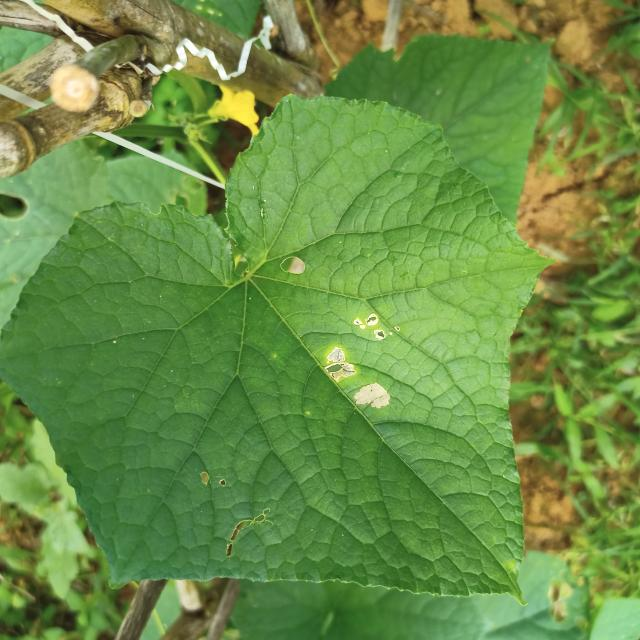disease_cucumber: (325, 308, 393, 410)
